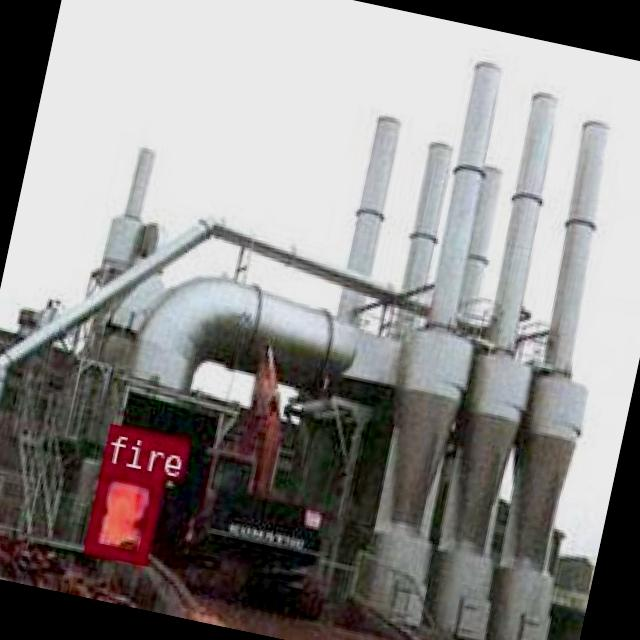fire: (83, 460, 162, 560)
